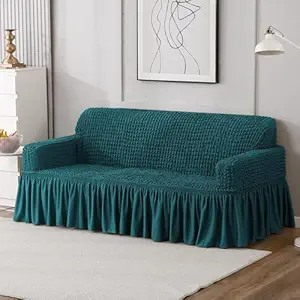3seatersofa: (14, 108, 293, 247)
backrest: (76, 108, 275, 175)
leftarmrest: (217, 146, 284, 191)
rightarmrest: (22, 135, 77, 171)
seat: (16, 165, 291, 247)
